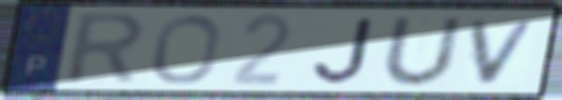2: (227, 11, 298, 88)
J: (310, 16, 378, 85)
O: (149, 12, 225, 86)
R: (59, 9, 150, 87)
U: (379, 14, 466, 87)
V: (467, 17, 543, 86)
